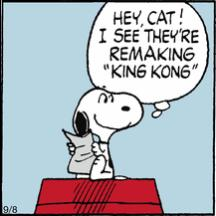snoopy: (65, 86, 143, 182)
